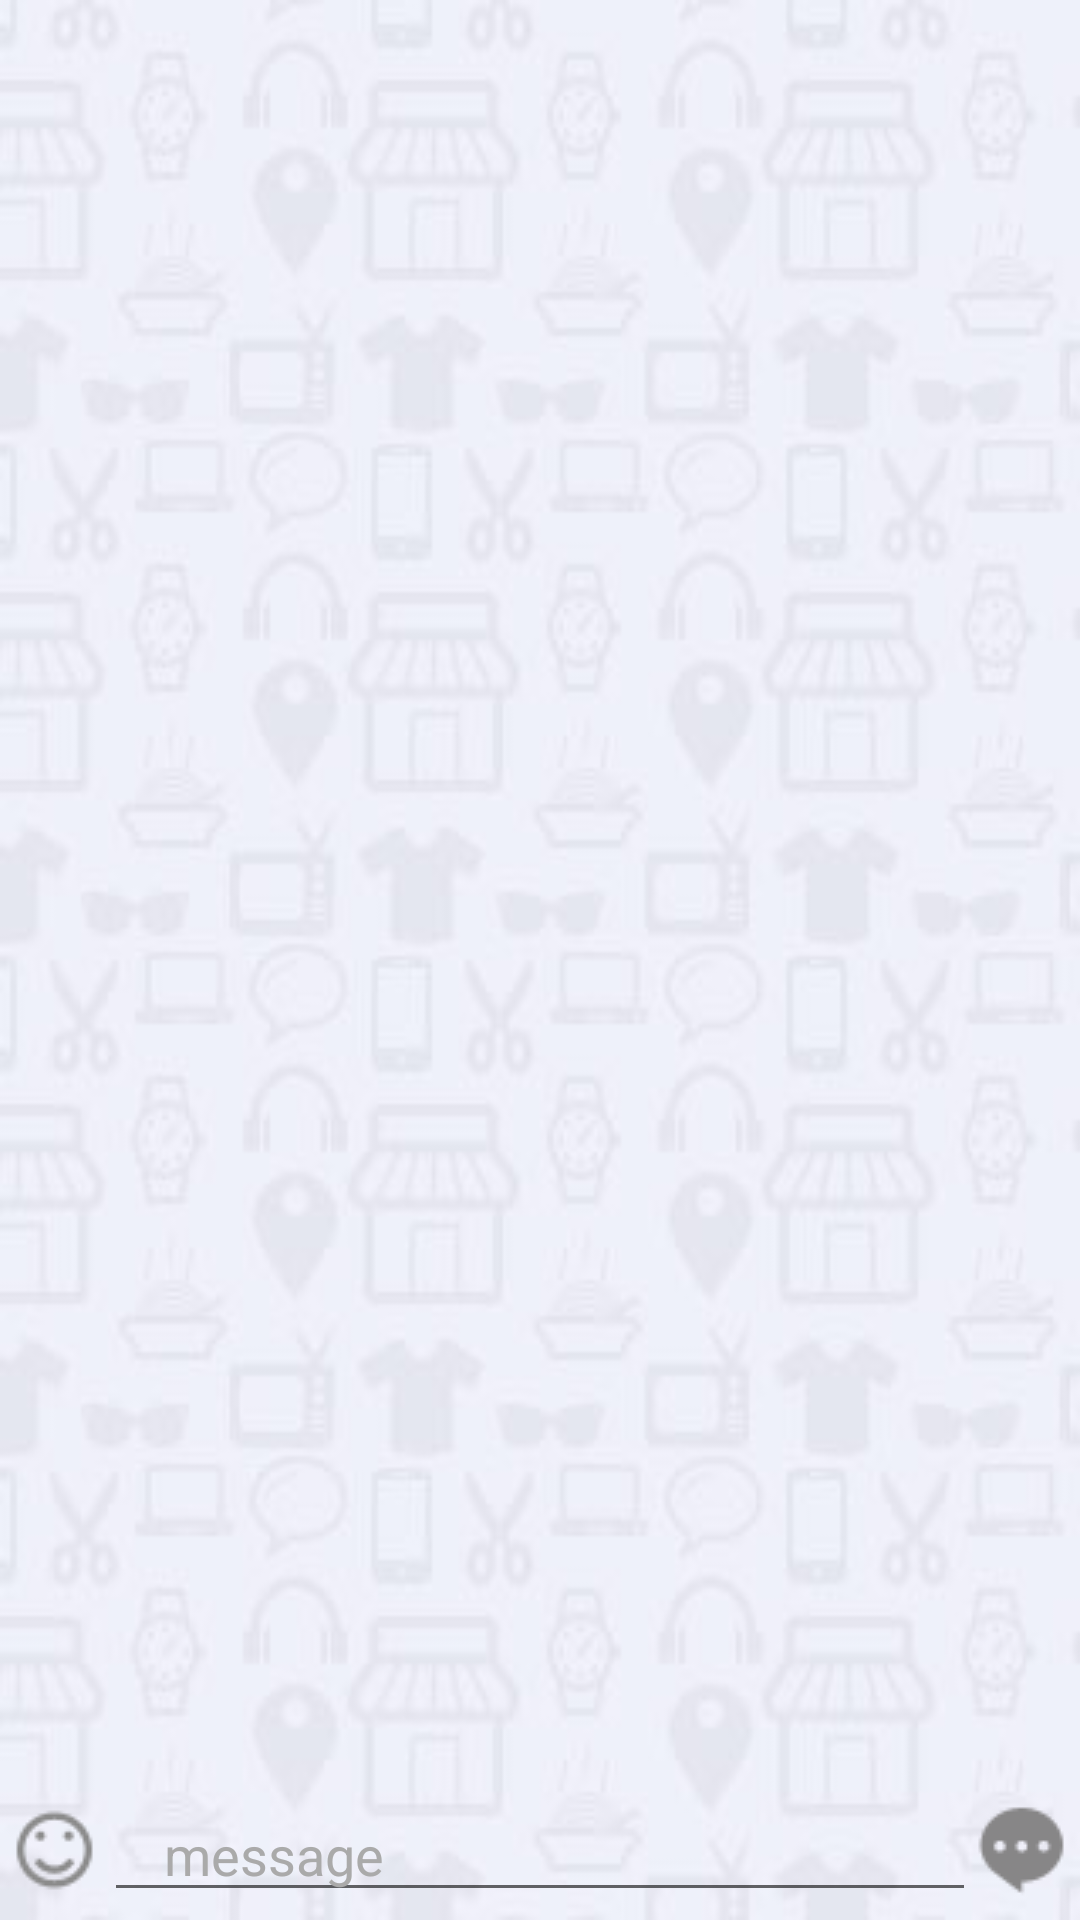

Where to tap for icons on this 1080px x 1920px app screen, as point (x, y):
emoticon: point (54, 1850)
